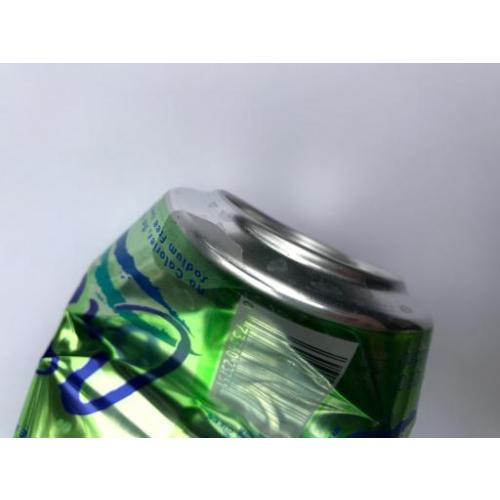metal: (16, 188, 435, 437)
